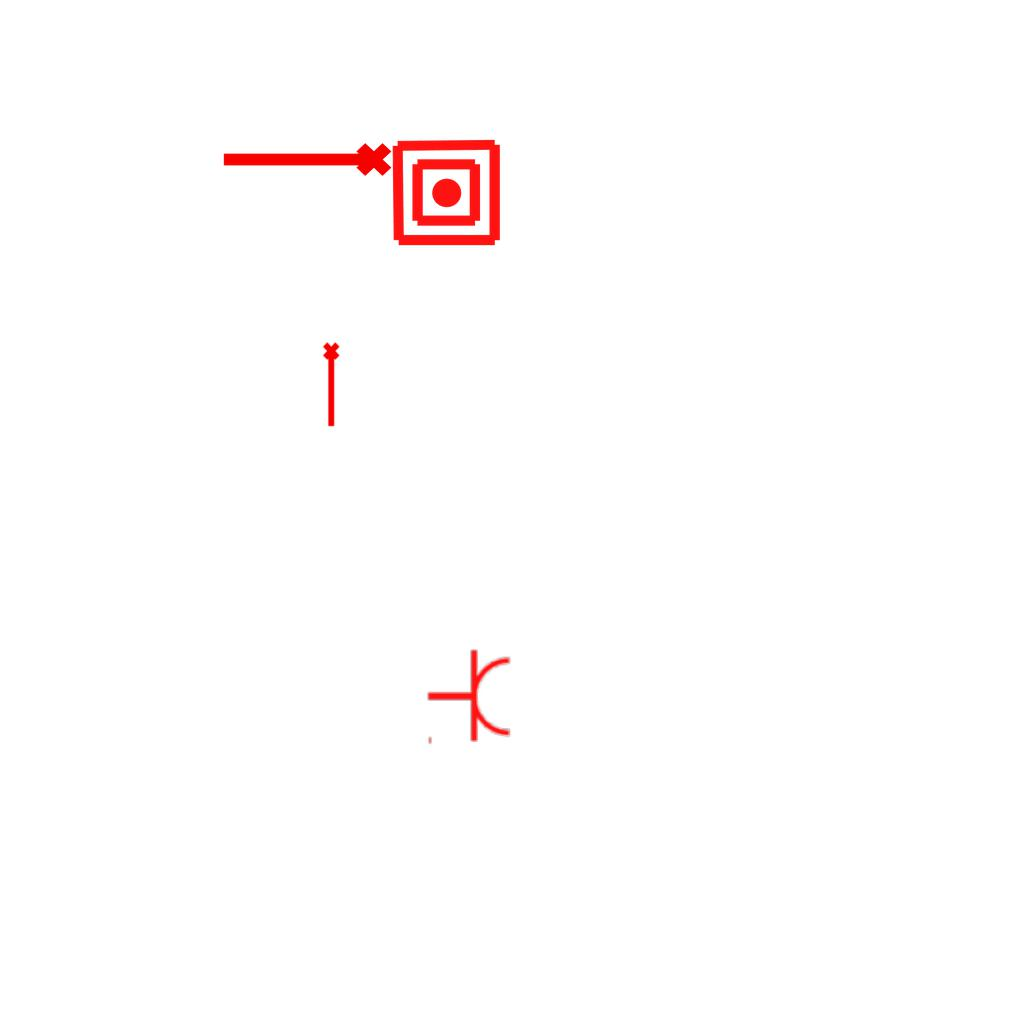ASR_Ansaugoeffnung: (218, 139, 394, 185), (321, 341, 344, 429)
NAM-Nichtautomatischer_Melder: (390, 136, 503, 249)
Schukosteckdose_einfach: (426, 648, 513, 748)
